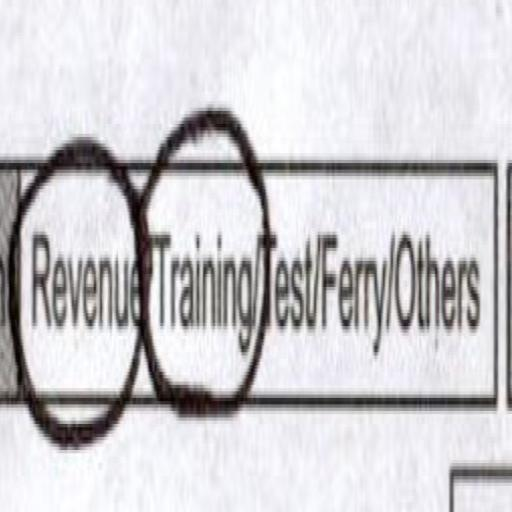check: (18, 76, 146, 478), (154, 66, 264, 466)
